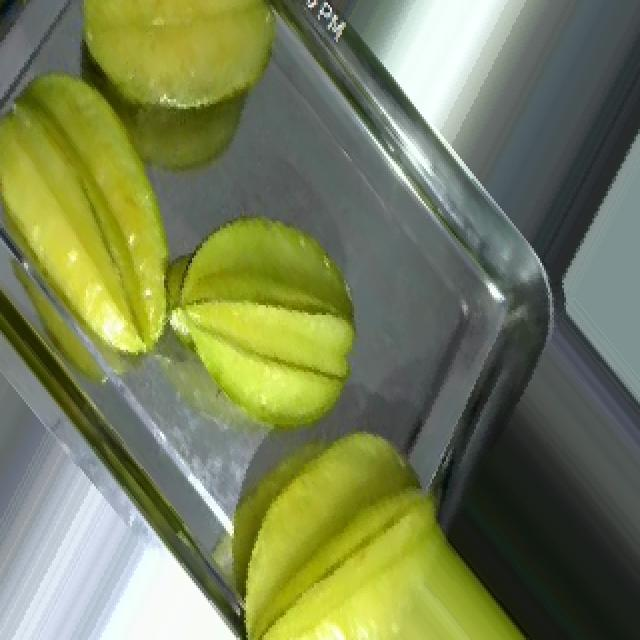fruit: (198, 397, 582, 640), (132, 166, 410, 479), (0, 42, 244, 394)
